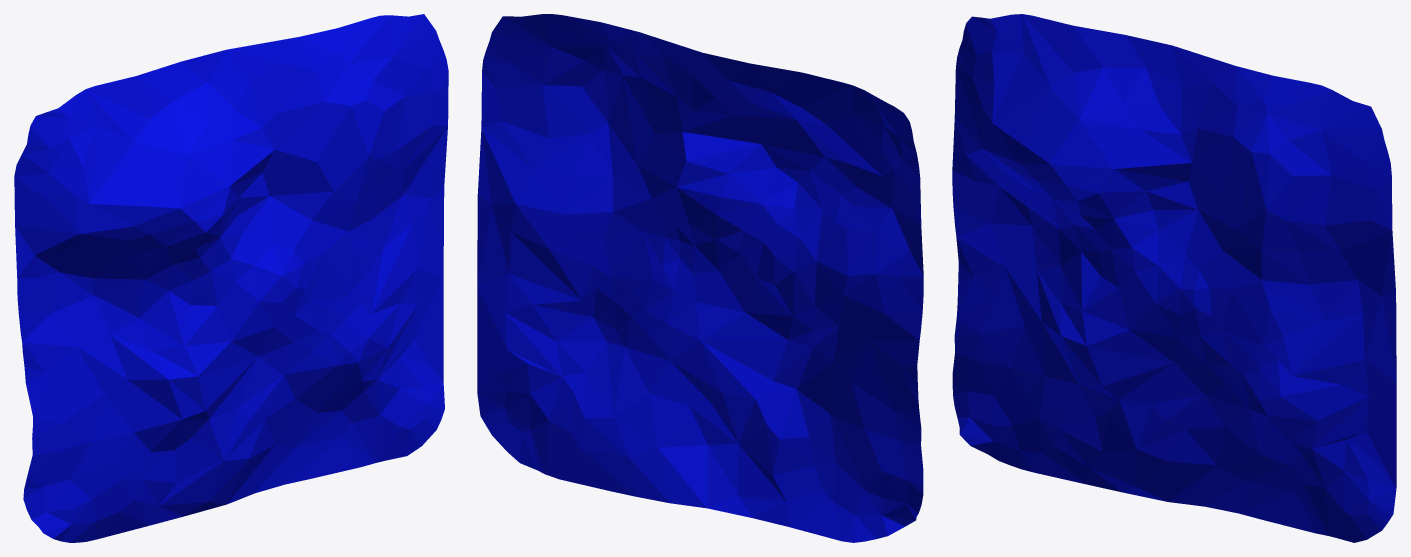
Rendered from Ground.glb.
3 views of the same model, side by side, from view 1: azimuth 30°, elevation 25°; view 2: azimuth 150°, elevation 25°; view 3: azimuth 330°, elevation 25° (orthographic).
Visible parts, largest first — view 1: Ground_01; view 2: Ground_01; view 3: Ground_01.
Part boxes in pixels (x1,y1,x2,y2): Ground_01: (14, 14, 448, 542); Ground_01: (477, 14, 923, 542); Ground_01: (952, 14, 1396, 542).
Bounding box in the file's own units: 29.77 × 29.74 × 4.89.
